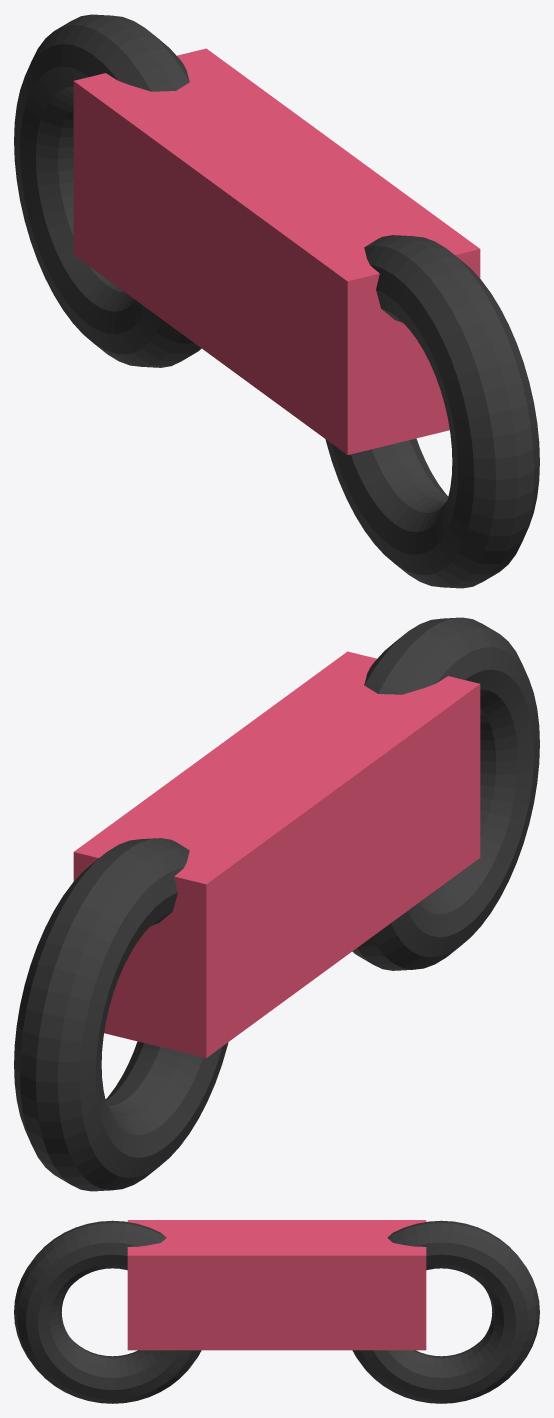
Rendered from cyberpunk_motorcycle.glb.
3 views of the same model, one above another, from view 1: azimuth 30°, elevation 25°; view 2: azimuth 150°, elevation 25°; view 3: azimuth 270°, elevation 25° (orthographic). The views are drawn at different scales.
Visible parts, largest first — view 1: Cube, Torus, Torus.001; view 2: Cube, Torus.001, Torus; view 3: Cube, Torus, Torus.001.
Boxes of the visible parts, <box> form: Cube: <box>73,48,480,454</box>; Torus: <box>325,235,539,588</box>; Torus.001: <box>14,14,201,367</box>; Cube: <box>73,651,480,1057</box>; Torus.001: <box>14,838,228,1191</box>; Torus: <box>352,617,539,970</box>; Cube: <box>127,1220,426,1350</box>; Torus: <box>14,1220,201,1403</box>; Torus.001: <box>352,1220,539,1403</box>.
Size of the model in its own units: 0.28 by 0.66 by 1.76.
